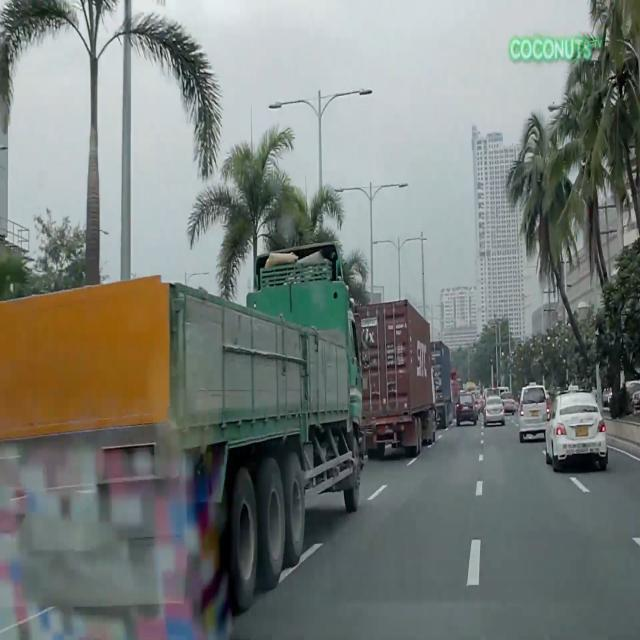truck: (0, 241, 365, 611), (358, 297, 438, 458)
